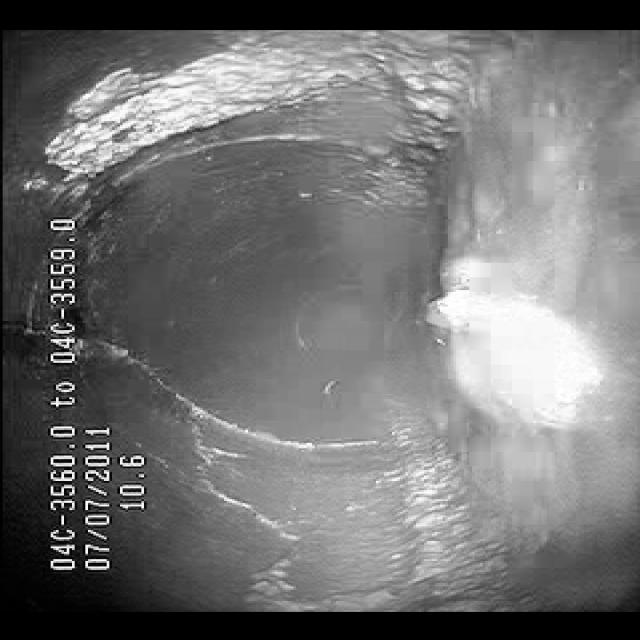Crack: (196, 448, 332, 602)
